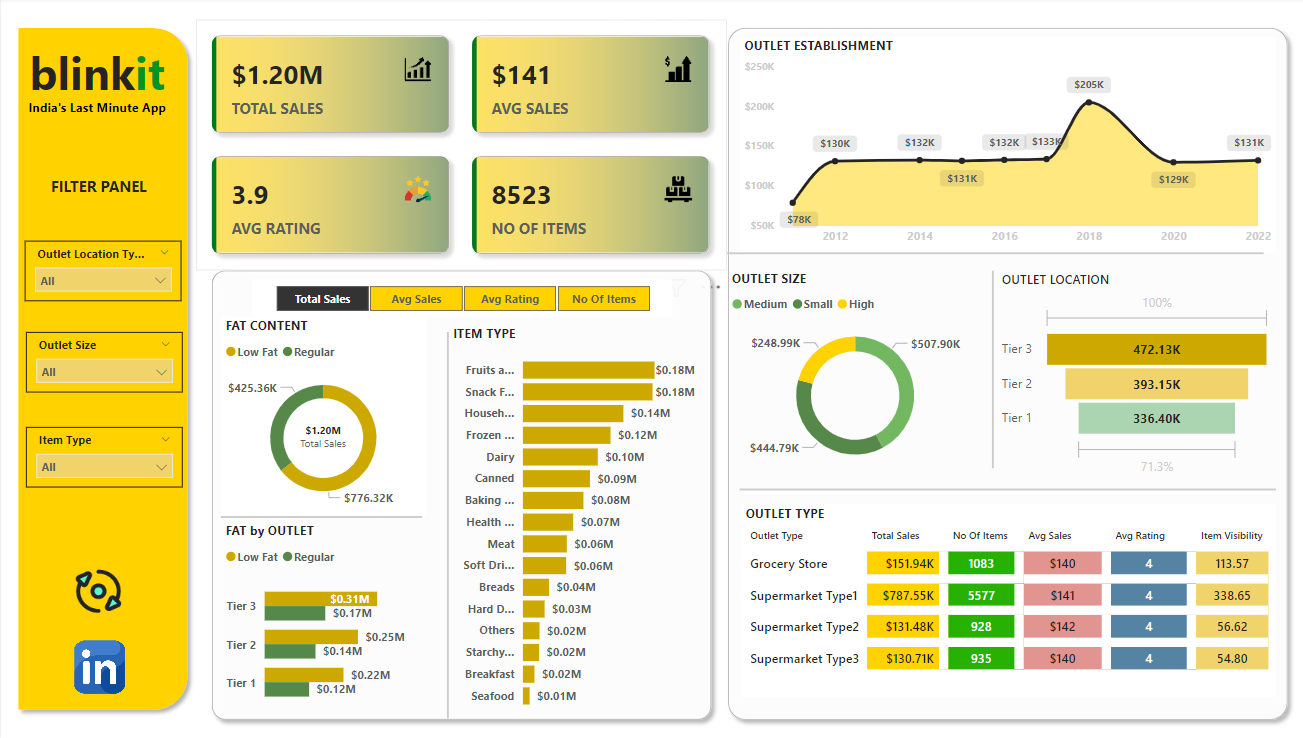

The page's visual inventory and layout, read from the dashboard file:
{"tool":"powerbi","page":{"name":"Dashboard","canvas":[1400,800],"ordinal":0},"visuals":[{"type":"shape","box":[9.4,24.1,199.7,749.3],"z":0},{"type":"textbox","box":[18.8,42.9,168.9,76.4],"z":1000},{"type":"textbox","box":[18.8,104.6,168.9,29.5],"z":2000},{"type":"cardVisual","fields":{"Data":["Key Indicaters.Total Sales","Key Indicaters.Avg Sales","Key Indicaters.Avg Rating","Key Indicaters.No Of Items"]},"box":[209.1,24.1,569.7,269.4],"z":3000},{"type":"shape","box":[217.2,284.2,553.6,500],"z":4000},{"type":"donutChart","title":"FAT CONTENT","fields":{"Y":["Key Indicaters.Total Sales"],"Category":["BlinkIT Grocery Data.Item Fat Content"]},"box":[235.9,343.2,219.8,214.5],"z":5000},{"type":"slicer","fields":{"Values":["Metrics.Metrics"]},"box":[269.4,303,450.4,40.2],"z":6000},{"type":"cardVisual","fields":{"Data":["Key Indicaters.Total Sales"]},"box":[298.7,441.3,93.1,52.5],"z":7000},{"type":"clusteredBarChart","title":"FAT by OUTLET","fields":{"Y":["Key Indicaters.Total Sales"],"Series":["BlinkIT Grocery Data.Item Fat Content"],"Category":["BlinkIT Grocery Data.Outlet Location Type"]},"box":[235.9,563,219.8,210.5],"z":8000},{"type":"shape","box":[235.9,534.9,215.8,45.6],"z":9000},{"type":"shape","box":[463.8,359.3,30.8,414.2],"z":10000},{"type":"barChart","title":"ITEM TYPE","fields":{"Y":["Key Indicaters.Total Sales"],"Category":["BlinkIT Grocery Data.Item Type"]},"box":[479.9,351.2,269.4,422.3],"z":11000},{"type":"shape","box":[770.8,24.1,618,760.1],"z":12000},{"type":"lineChart","title":"OUTLET ESTABLISHMENT","fields":{"Category":["BlinkIT Grocery Data.Outlet Establishment Year"],"Y":["Key Indicaters.Total Sales"]},"box":[792.2,42.9,575.1,231.9],"z":13000},{"type":"shape","box":[778.8,252,575.1,45.6],"z":14000},{"type":"donutChart","title":"OUTLET SIZE","fields":{"Y":["Key Indicaters.Total Sales"],"Category":["BlinkIT Grocery Data.Outlet Size"]},"box":[778.8,292.2,274.8,225.2],"z":15000},{"type":"funnel","title":"OUTLET LOCATION","fields":{"Y":["Sum(BlinkIT Grocery Data.Sales)"],"Category":["BlinkIT Grocery Data.Outlet Location Type"]},"box":[1068.4,293.6,298.9,225.2],"z":16000},{"type":"shape","box":[792.2,505.4,575.1,45.6],"z":17000},{"type":"shape","box":[1048.3,293.6,30.8,211.8],"z":18000},{"type":"pivotTable","title":"OUTLET TYPE","fields":{"Rows":["BlinkIT Grocery Data.Outlet Type"],"Values":["Key Indicaters.Total Sales","Key Indicaters.No Of Items","Key Indicaters.Avg Sales","Key Indicaters.Avg Rating","Sum(BlinkIT Grocery Data.Item Visibility)"]},"box":[793.6,544.2,573.7,206.4],"z":19000},{"type":"slicer","fields":{"Values":["BlinkIT Grocery Data.Outlet Location Type"]},"box":[25.5,261.2,168.1,64.5],"z":20000},{"type":"slicer","fields":{"Values":["BlinkIT Grocery Data.Outlet Size"]},"box":[27,358.7,168.1,64.5],"z":21000},{"type":"slicer","fields":{"Values":["BlinkIT Grocery Data.Item Type"]},"box":[27,460.8,168.1,64.5],"z":22000},{"type":"textbox","box":[19.5,186.1,169.6,34.5],"z":23000},{"type":"image","box":[73.5,684.4,64.5,67.5],"z":24000},{"type":"image","box":[73.5,607.8,61.5,60],"z":25000}]}

Visuals, with their boxes in screenshot pixels (x1, y1, x2, y2), scaled from the page's 1400x800 canvas onto the 1303x738 screenshot:
shape: x1=9 y1=22 x2=195 y2=713
textbox: x1=17 y1=40 x2=175 y2=110
textbox: x1=17 y1=96 x2=175 y2=124
cardVisual - Key Indicaters.Total Sales x Key Indicaters.Avg Sales: x1=195 y1=22 x2=725 y2=271
shape: x1=202 y1=262 x2=717 y2=723
"FAT CONTENT" donutChart: x1=220 y1=317 x2=424 y2=514
slicer - Metrics.Metrics: x1=251 y1=280 x2=670 y2=317
cardVisual - Key Indicaters.Total Sales: x1=278 y1=407 x2=365 y2=456
"FAT by OUTLET" clusteredBarChart: x1=220 y1=519 x2=424 y2=714
shape: x1=220 y1=493 x2=420 y2=536
shape: x1=432 y1=331 x2=460 y2=714
"ITEM TYPE" barChart: x1=447 y1=324 x2=697 y2=714
shape: x1=717 y1=22 x2=1293 y2=723
"OUTLET ESTABLISHMENT" lineChart: x1=737 y1=40 x2=1273 y2=254
shape: x1=725 y1=232 x2=1260 y2=275
"OUTLET SIZE" donutChart: x1=725 y1=270 x2=981 y2=477
"OUTLET LOCATION" funnel: x1=994 y1=271 x2=1273 y2=479
shape: x1=737 y1=466 x2=1273 y2=508
shape: x1=976 y1=271 x2=1004 y2=466
"OUTLET TYPE" pivotTable: x1=739 y1=502 x2=1273 y2=692
slicer - BlinkIT Grocery Data.Outlet Location Type: x1=24 y1=241 x2=180 y2=300
slicer - BlinkIT Grocery Data.Outlet Size: x1=25 y1=331 x2=182 y2=390
slicer - BlinkIT Grocery Data.Item Type: x1=25 y1=425 x2=182 y2=485
textbox: x1=18 y1=172 x2=176 y2=204
image: x1=68 y1=631 x2=128 y2=694
image: x1=68 y1=561 x2=126 y2=616
